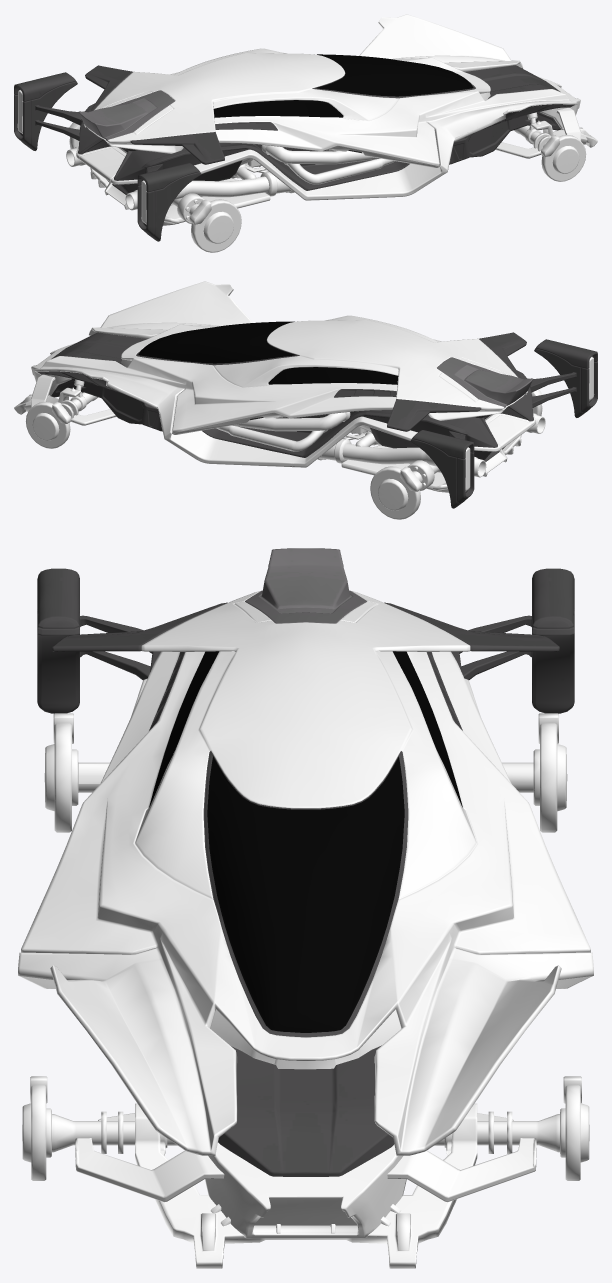
Rendered from car_plank.glb.
3 renders of one model, top to bottom at view 1: azimuth 30°, elevation 25°; view 2: azimuth 150°, elevation 25°; view 3: azimuth 270°, elevation 25°, orthographic. The views are drawn at different scales.
Visible parts, largest first — view 1: Mantis_Body, Mantis_Chassis; view 2: Mantis_Body, Mantis_Chassis; view 3: Mantis_Body, Mantis_Chassis.
Boxes of the visible parts, x1,y1,x2,y2 form: Mantis_Body: [14, 14, 577, 241]; Mantis_Chassis: [17, 77, 597, 252]; Mantis_Body: [35, 281, 597, 508]; Mantis_Chassis: [14, 343, 594, 519]; Mantis_Body: [18, 548, 593, 1176]; Mantis_Chassis: [22, 713, 589, 1268].
Size of the model in its own units: 1.65 by 0.4318 by 0.8397.
Materials: 2 (1 with a texture image).
